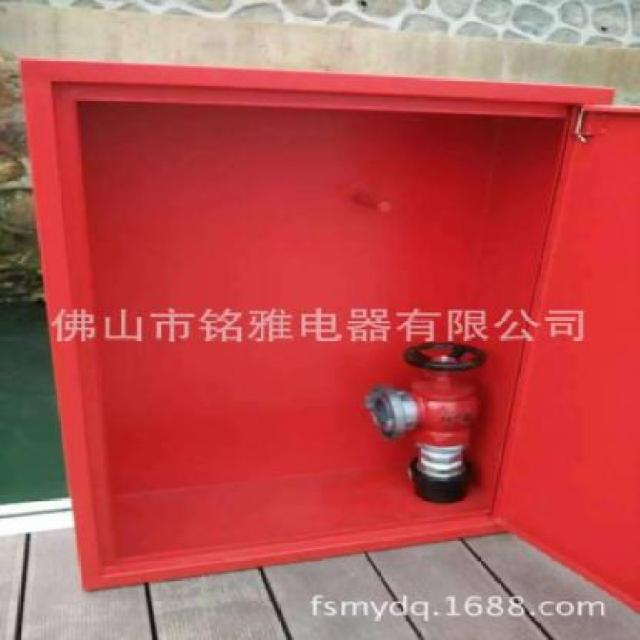firehydrant: (9, 52, 640, 620)
